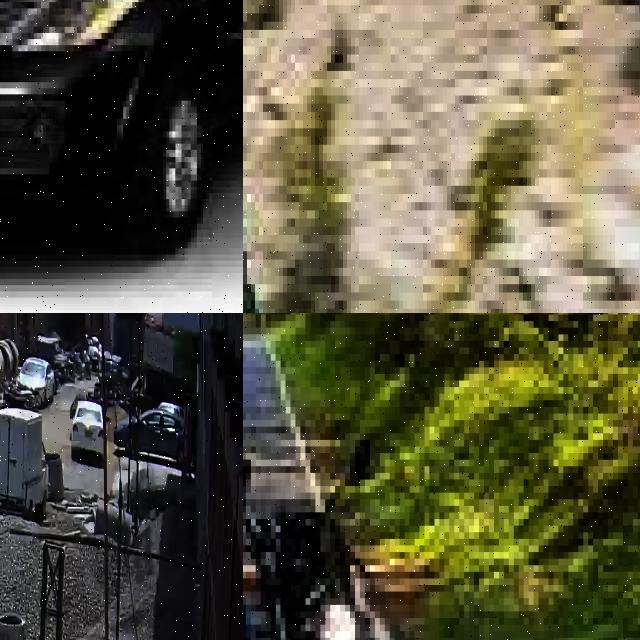bike: (243, 506, 489, 640)
car: (0, 0, 243, 242), (113, 408, 184, 464), (16, 357, 55, 407), (71, 402, 104, 458)
